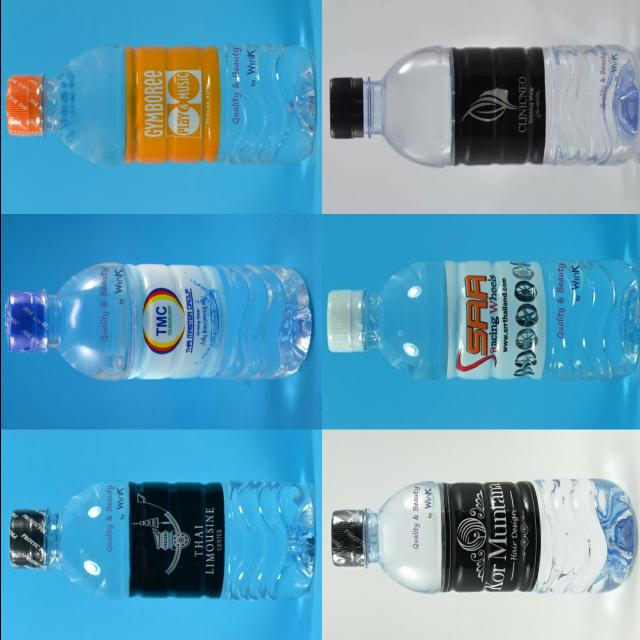plastik: (329, 45, 637, 168), (326, 259, 639, 380), (5, 44, 315, 165), (9, 481, 314, 601), (5, 262, 311, 380), (330, 478, 634, 593)
